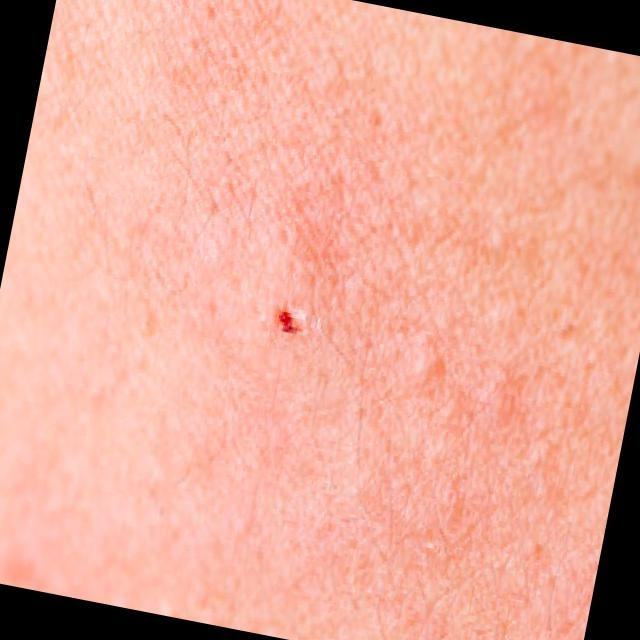Eczema: (258, 304, 316, 350)
